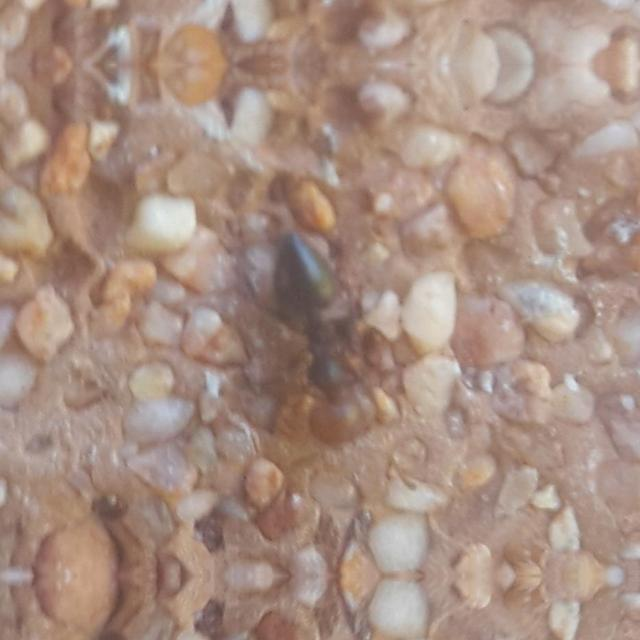Crematogaster: (245, 229, 388, 453)
